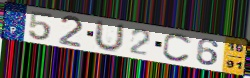2: (58, 16, 84, 49), (128, 28, 153, 57)
5: (27, 9, 55, 41)
6: (196, 38, 220, 67)
C: (161, 32, 193, 63)
U: (92, 19, 126, 53)
